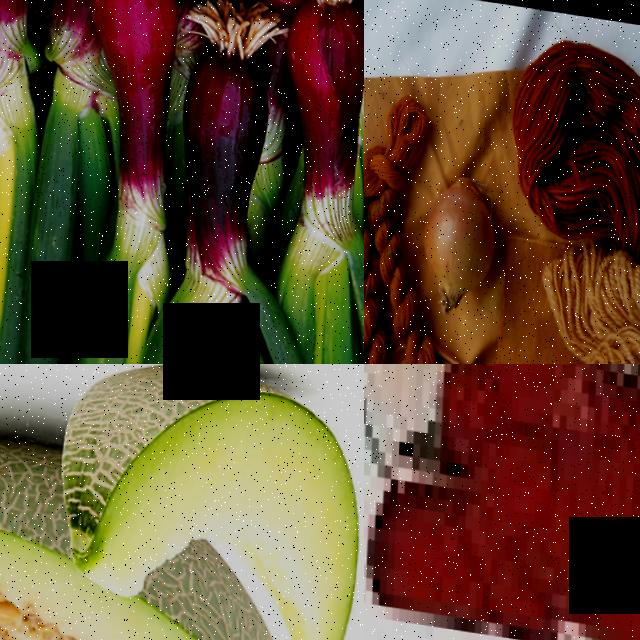lobster tails: (364, 364, 640, 640)
melon: (60, 364, 364, 605), (0, 512, 317, 640)
onion: (417, 167, 500, 302)
